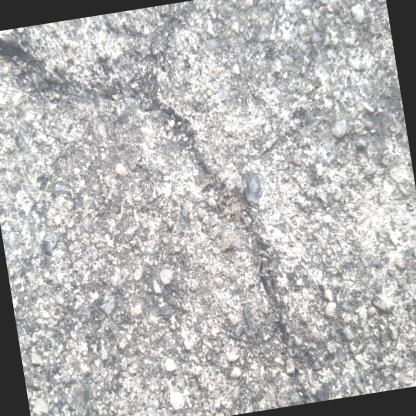crack: (0, 3, 326, 405)
